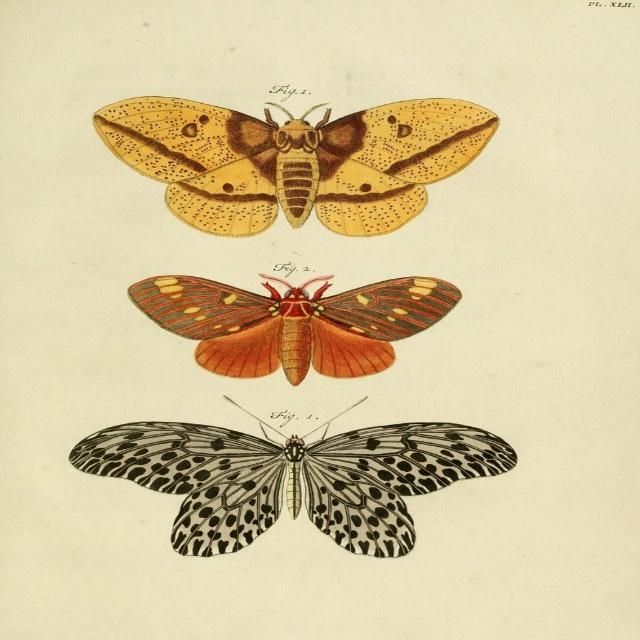Butterfly: (66, 391, 519, 556), (89, 97, 500, 237), (114, 257, 467, 388)
